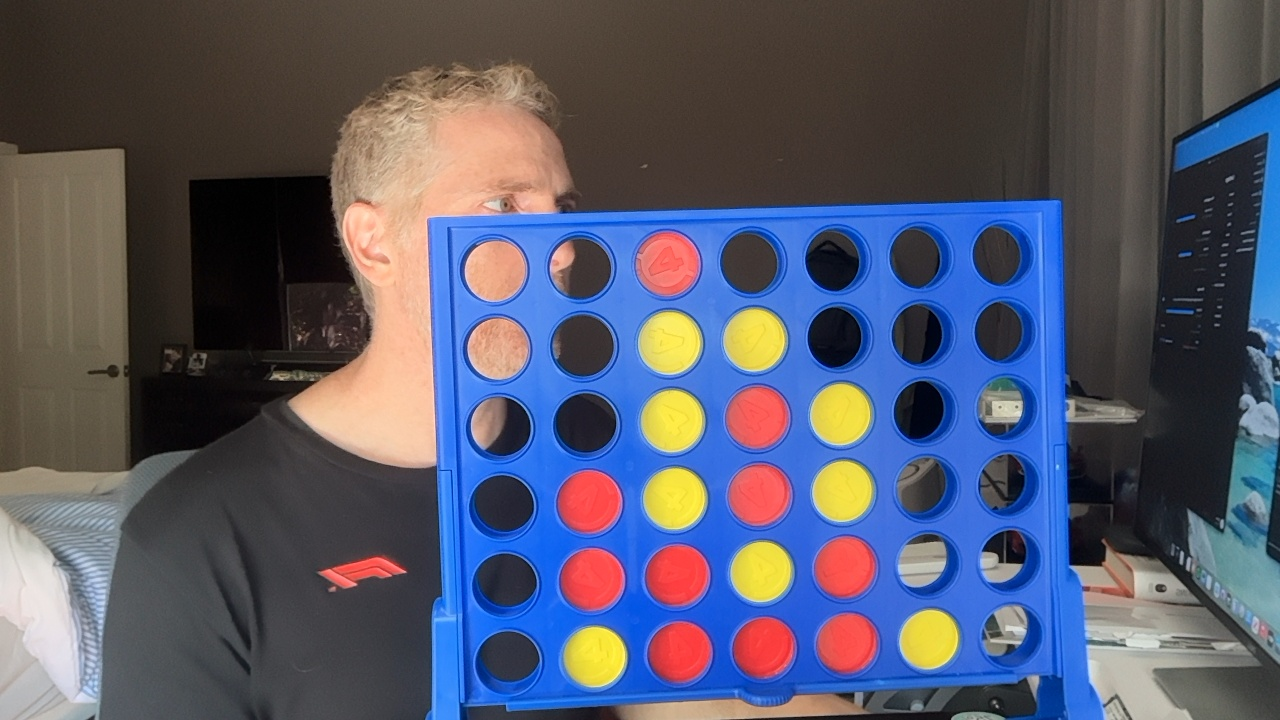red piece: (636, 231, 700, 296), (557, 470, 621, 534), (559, 548, 624, 611), (645, 544, 709, 607), (648, 621, 711, 684), (728, 463, 791, 526), (726, 385, 788, 449), (732, 617, 795, 679), (814, 536, 876, 598), (817, 613, 877, 674)
yellow piece: (637, 311, 702, 375), (640, 389, 704, 453), (562, 626, 627, 689), (723, 307, 786, 371), (643, 467, 707, 530), (812, 459, 874, 523), (730, 540, 793, 602), (810, 382, 871, 446), (899, 609, 959, 670)
